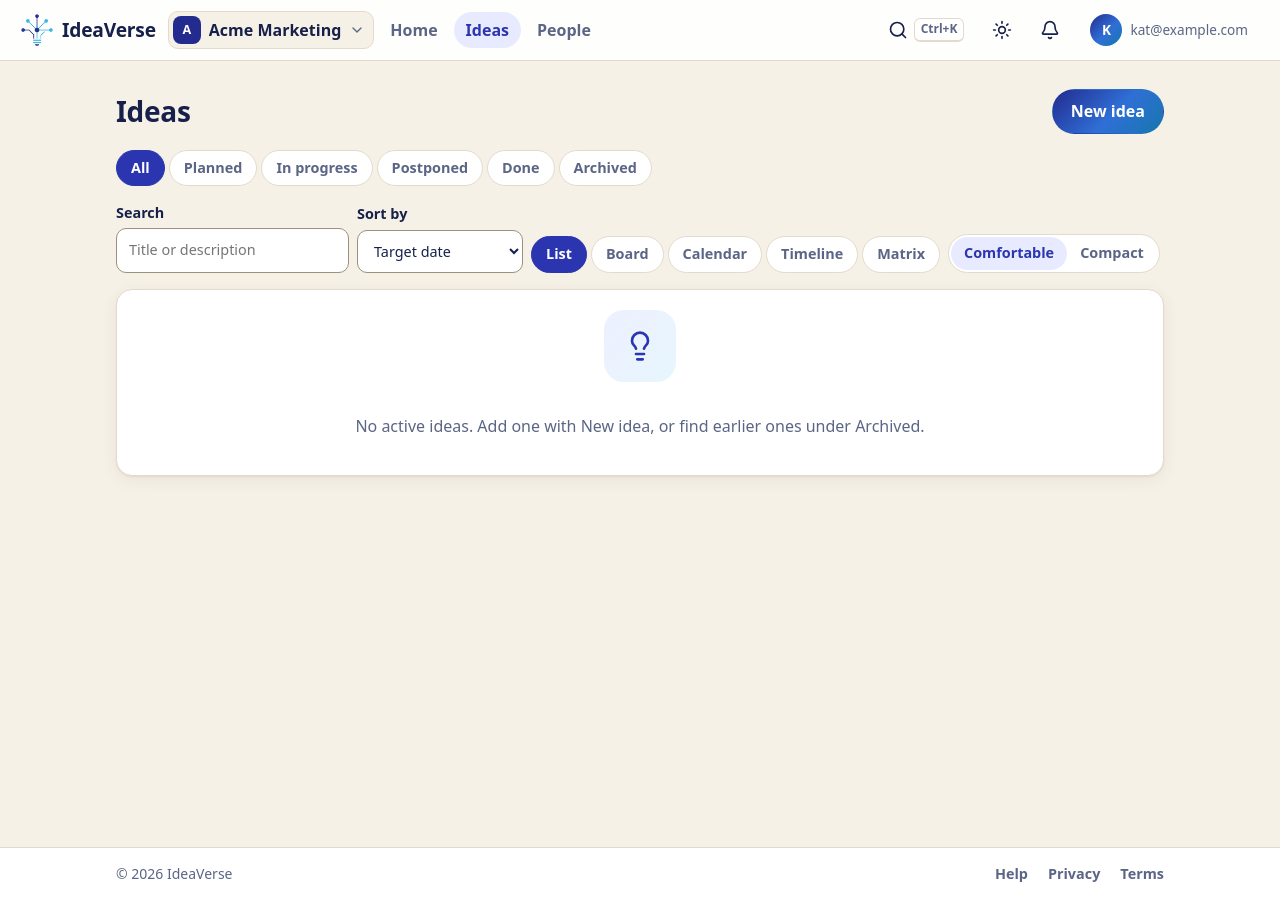
Test: IdeasPage › keeps the filters when every idea is archived, so the archive can still be opened
The image size is (1280, 900).
Expected: the text "No active ideas" is shown, [355, 415, 925, 437]
Click the button "Archived".
click(605, 168)  # box [559, 150, 652, 186]
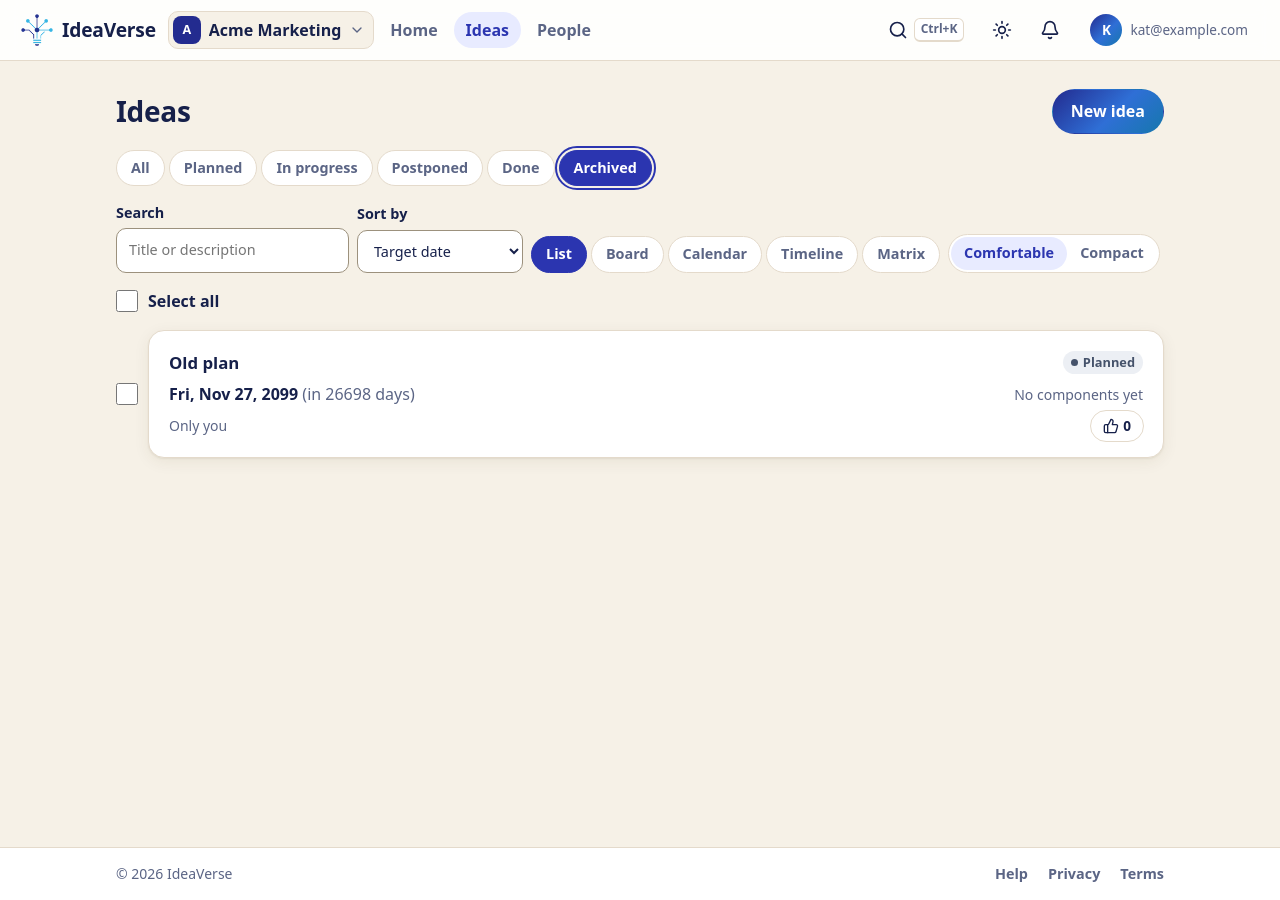
Result: the link "Old plan" is shown at [169, 351, 239, 374]
